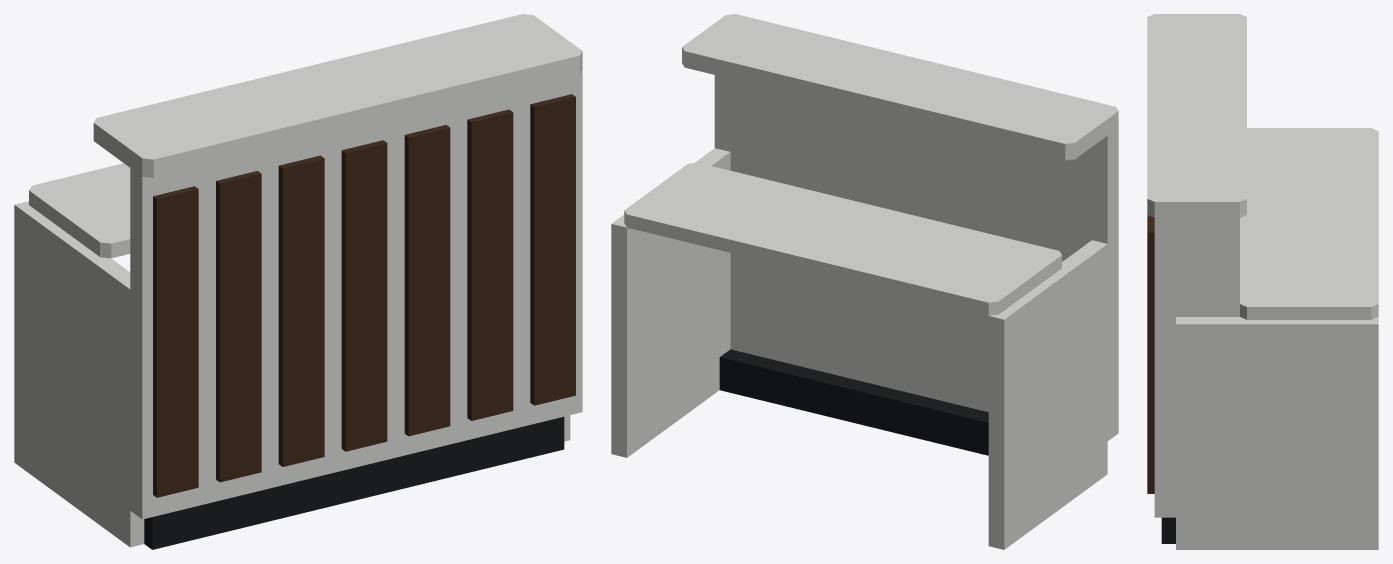
File: reception_wing.glb
3 renders of one model, left to right at view 1: azimuth 30°, elevation 25°; view 2: azimuth 150°, elevation 25°; view 3: azimuth 270°, elevation 25°, orthographic. The views are drawn at different scales.
Visible parts, largest first — view 1: Frente, Repisa, Lateral, Listón.005, Listón.003, Listón.002, Listón.004, Zócalo, Listón, Listón.001, Listón.006, Mesa trabajo; view 2: Frente, Mesa trabajo, Lateral, Repisa, Lateral.001, Zócalo; view 3: Lateral.001, Mesa trabajo, Repisa, Frente, Lateral, Listón.006, Zócalo.
Part boxes in pixels (bbox=[...]): Frente: bbox=[130, 70, 582, 519]; Repisa: bbox=[93, 14, 582, 177]; Lateral: bbox=[14, 201, 144, 547]; Listón.005: bbox=[467, 109, 513, 420]; Listón.003: bbox=[341, 140, 387, 451]; Listón.002: bbox=[278, 155, 324, 466]; Listón.004: bbox=[404, 125, 450, 436]; Zócalo: bbox=[144, 416, 564, 549]; Listón: bbox=[153, 186, 198, 497]; Listón.001: bbox=[216, 171, 261, 482]; Listón.006: bbox=[530, 94, 575, 405]; Mesa trabajo: bbox=[29, 163, 130, 258]; Frente: bbox=[714, 75, 1118, 440]; Mesa trabajo: bbox=[624, 162, 1061, 315]; Lateral: bbox=[988, 240, 1107, 549]; Repisa: bbox=[682, 14, 1118, 160]; Lateral.001: bbox=[611, 148, 730, 457]; Zócalo: bbox=[719, 349, 988, 455]; Lateral.001: bbox=[1176, 317, 1378, 549]; Mesa trabajo: bbox=[1240, 128, 1378, 319]; Repisa: bbox=[1147, 14, 1246, 217]; Frente: bbox=[1154, 218, 1175, 517]; Lateral: bbox=[1176, 218, 1239, 316]; Listón.006: bbox=[1147, 215, 1154, 493]; Zócalo: bbox=[1161, 517, 1175, 543].
Size of the model in its own units: 1.25 by 1.08 by 0.65.
